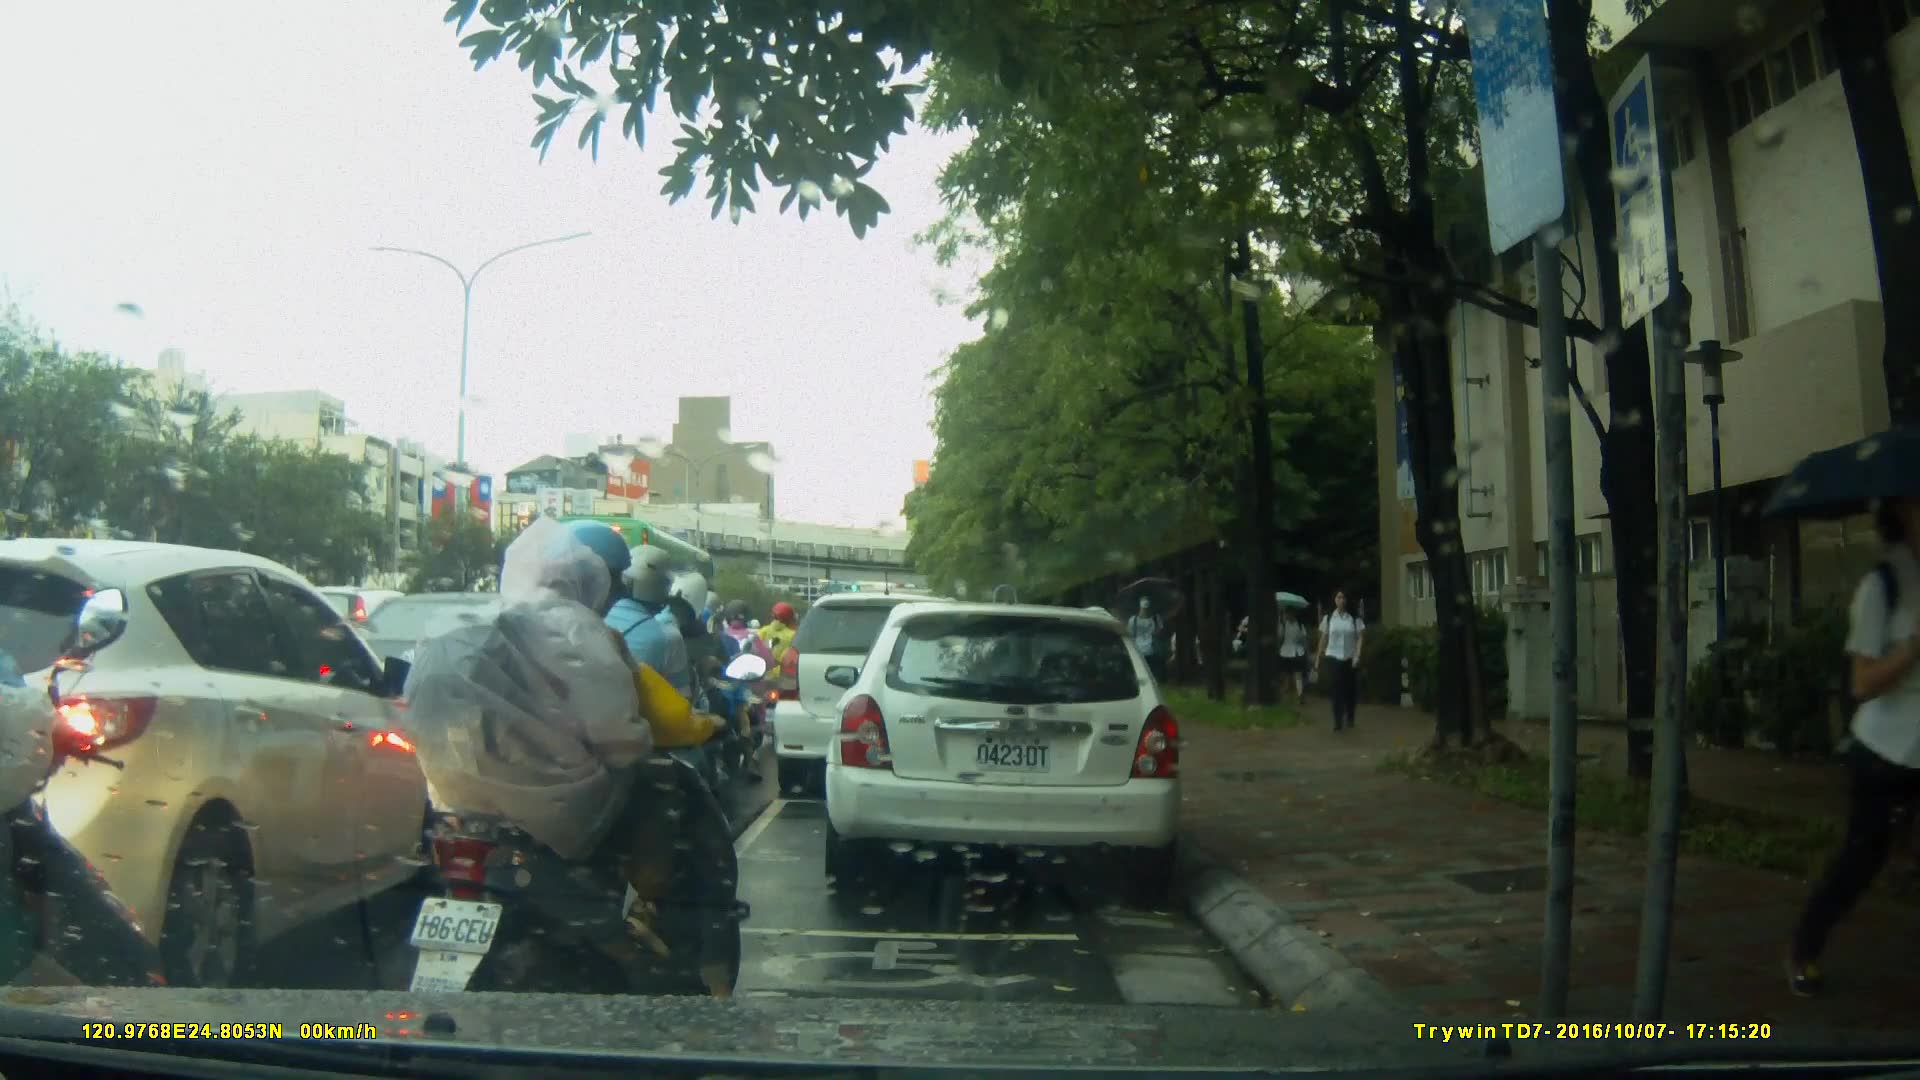pedestrian: (1821, 479, 1920, 1008), (1312, 586, 1370, 733), (1125, 588, 1172, 716)
rider: (393, 514, 753, 1073), (1, 586, 179, 1080), (541, 546, 732, 887), (608, 571, 744, 864), (708, 601, 779, 764), (756, 603, 816, 744)
vehicle: (1, 537, 442, 988), (822, 604, 1186, 881), (774, 595, 995, 802), (552, 519, 738, 666)
